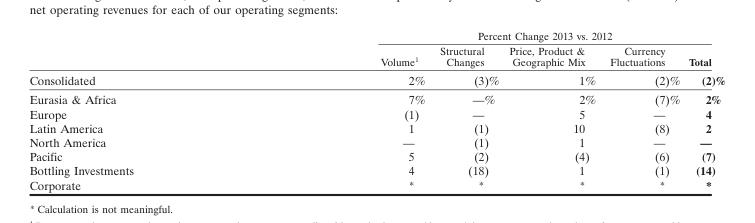table: (28, 28, 724, 191)
table column: (28, 28, 256, 191), (256, 28, 431, 191), (503, 28, 602, 191), (602, 28, 683, 191), (431, 28, 503, 191), (683, 28, 724, 191)
table column header: (28, 28, 724, 69)
table row: (28, 42, 724, 69), (28, 69, 724, 89), (28, 89, 724, 106), (28, 148, 724, 163), (28, 28, 724, 42), (28, 106, 724, 120), (28, 120, 724, 134), (28, 134, 724, 148), (28, 163, 724, 177), (28, 177, 724, 191)
table spanning cell: (256, 28, 724, 42)
